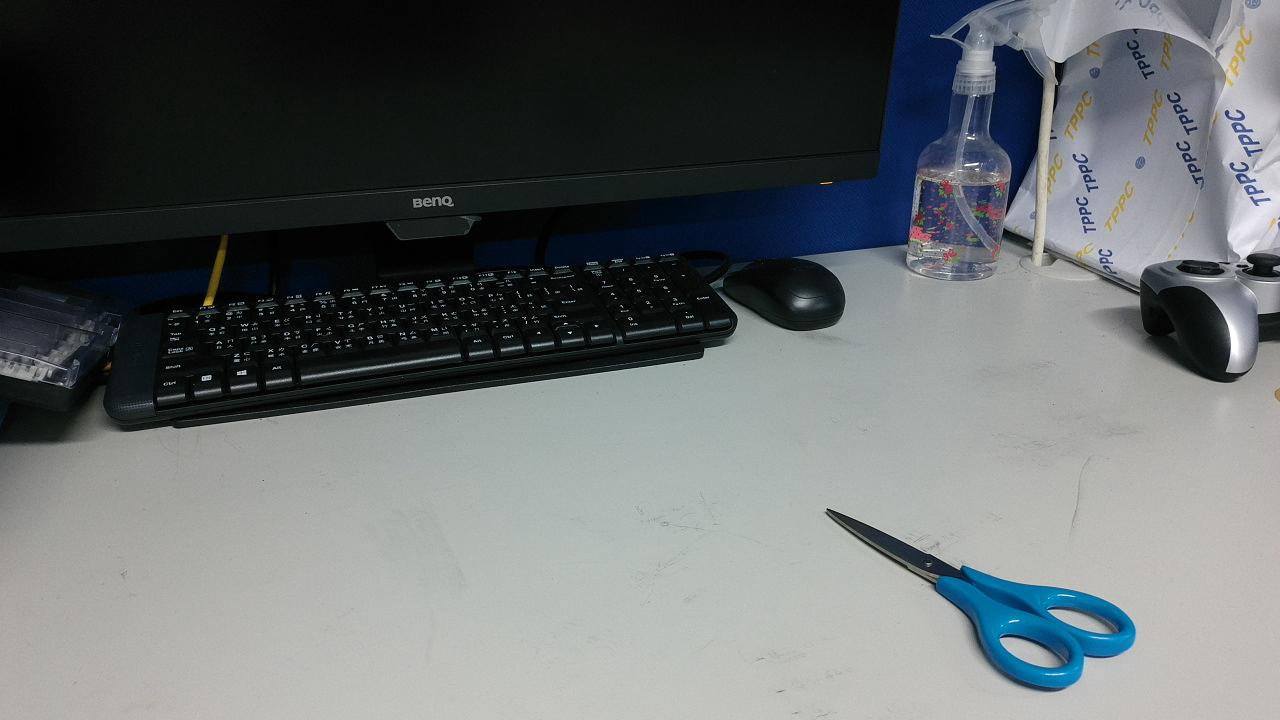long: (641, 404, 780, 561)
